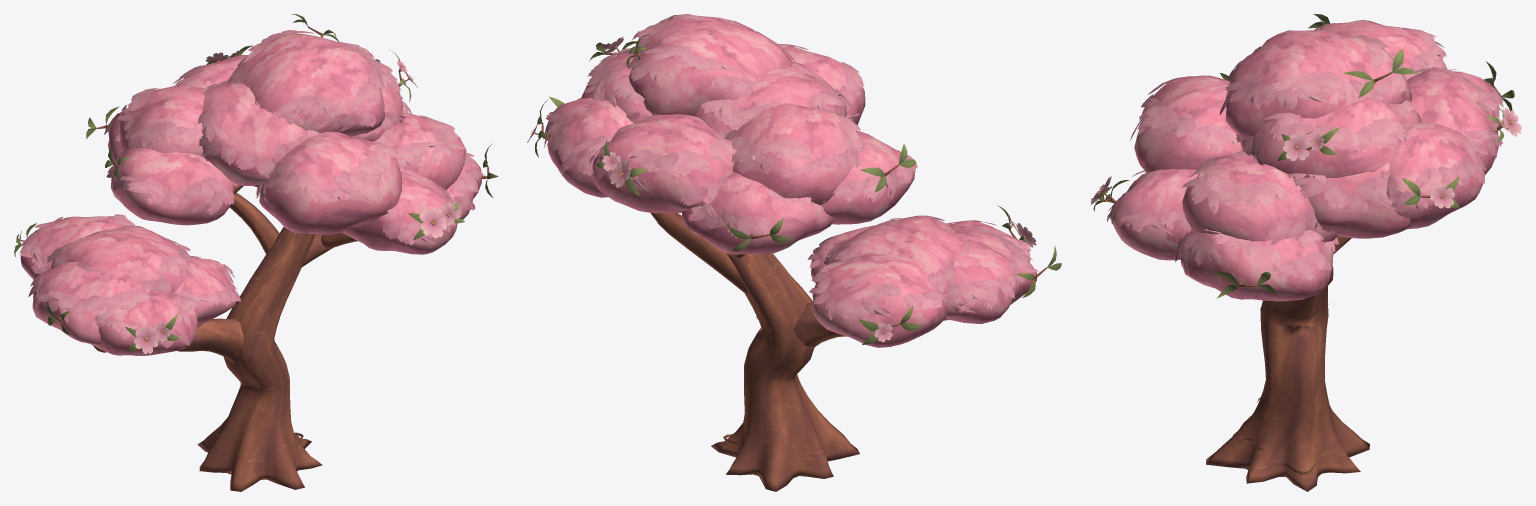
Rendered from SM_CherryBlossom.fbx.
The picture shows the model from 3 angles, left to right: view 1: azimuth 30°, elevation 25°; view 2: azimuth 150°, elevation 25°; view 3: azimuth 270°, elevation 25°; orthographic projection. The views are drawn at different scales.
Visible parts, largest first — view 1: SM_CherryBlossom; view 2: SM_CherryBlossom; view 3: SM_CherryBlossom.
Part boxes in pixels (x1=…): SM_CherryBlossom: x1=14, y1=14, x2=498, y2=491; SM_CherryBlossom: x1=527, y1=14, x2=1061, y2=491; SM_CherryBlossom: x1=1090, y1=14, x2=1521, y2=491.
Size of what is drawn, in the model's own units: 530 by 380 by 442.
1 material, 1 textured.
